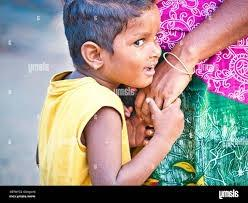Human: (35, 0, 199, 194)
